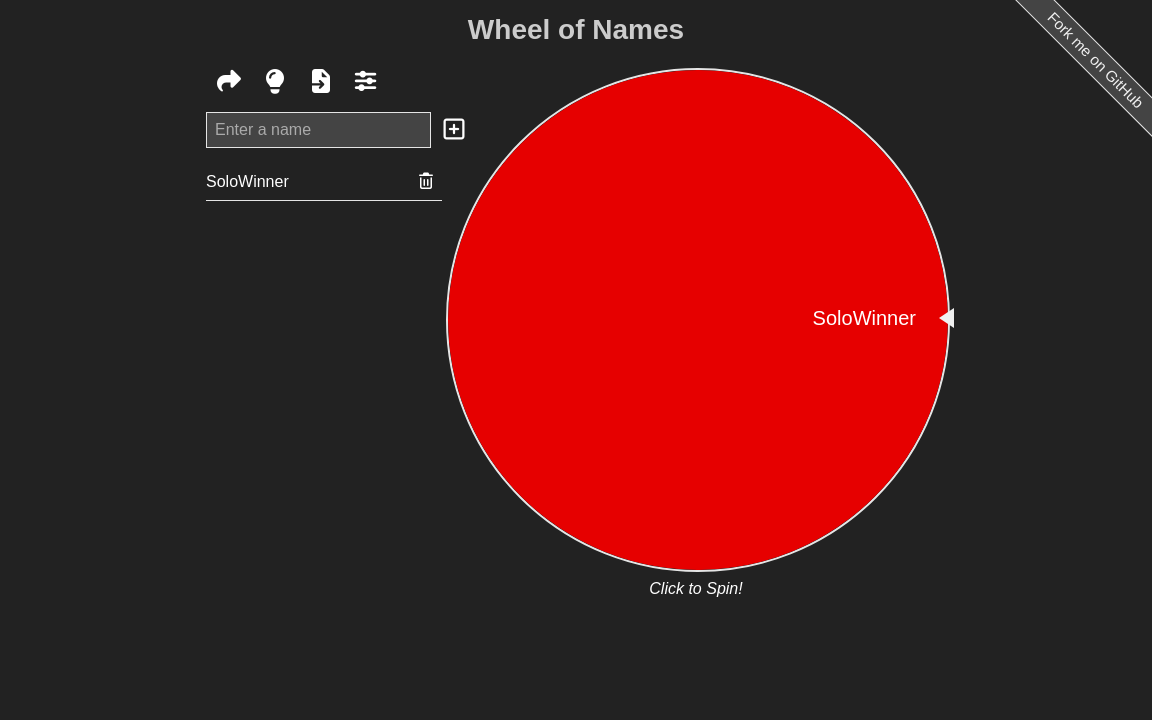
App Component › handles spin flow, reveals winner, and disables winner on dismissal
Expected: the text "Next up is..." is not shown
Click wheel to spin
Click the element with test id "wheel-container": point(466, 88) left=446, top=68, right=946, bottom=568
Wait 1500 ms
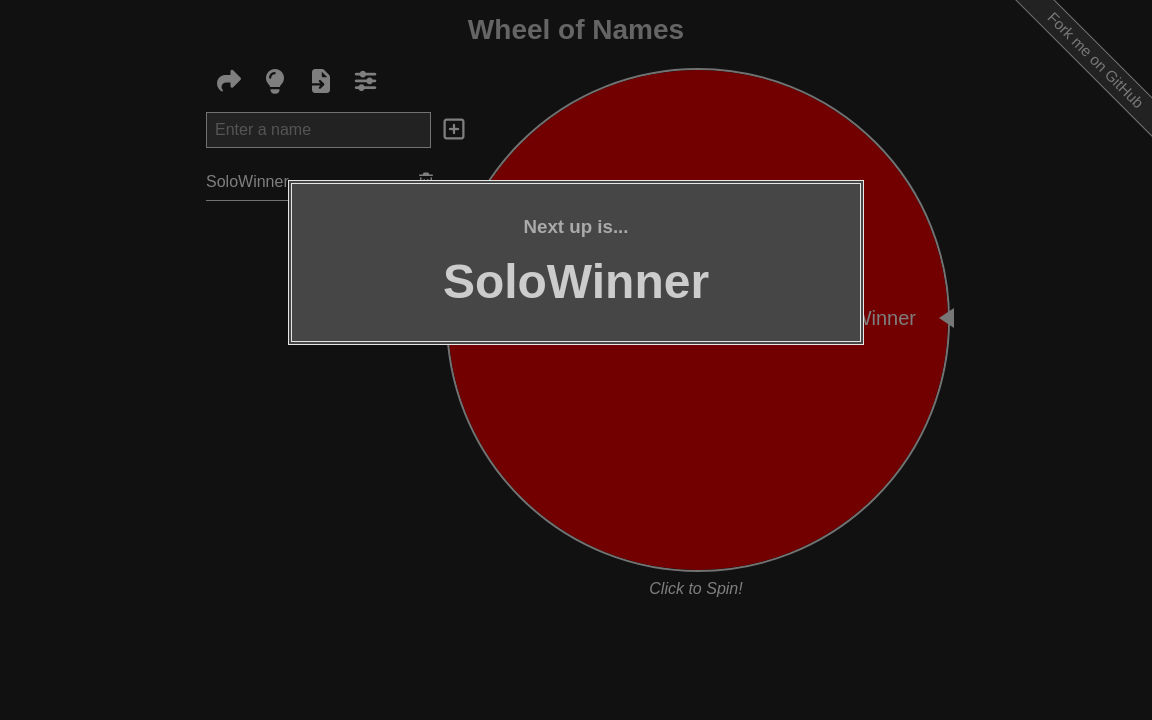
Result: the heading "Next up is..." is shown at left=524, top=216, right=628, bottom=237
Result: the heading "SoloWinner" is shown at left=443, top=255, right=709, bottom=308
Result: the element showing "Next up is... SoloWinner" is shown
Click the element showing "Next up is... SoloWinner": point(576, 360) left=0, top=0, right=1151, bottom=719
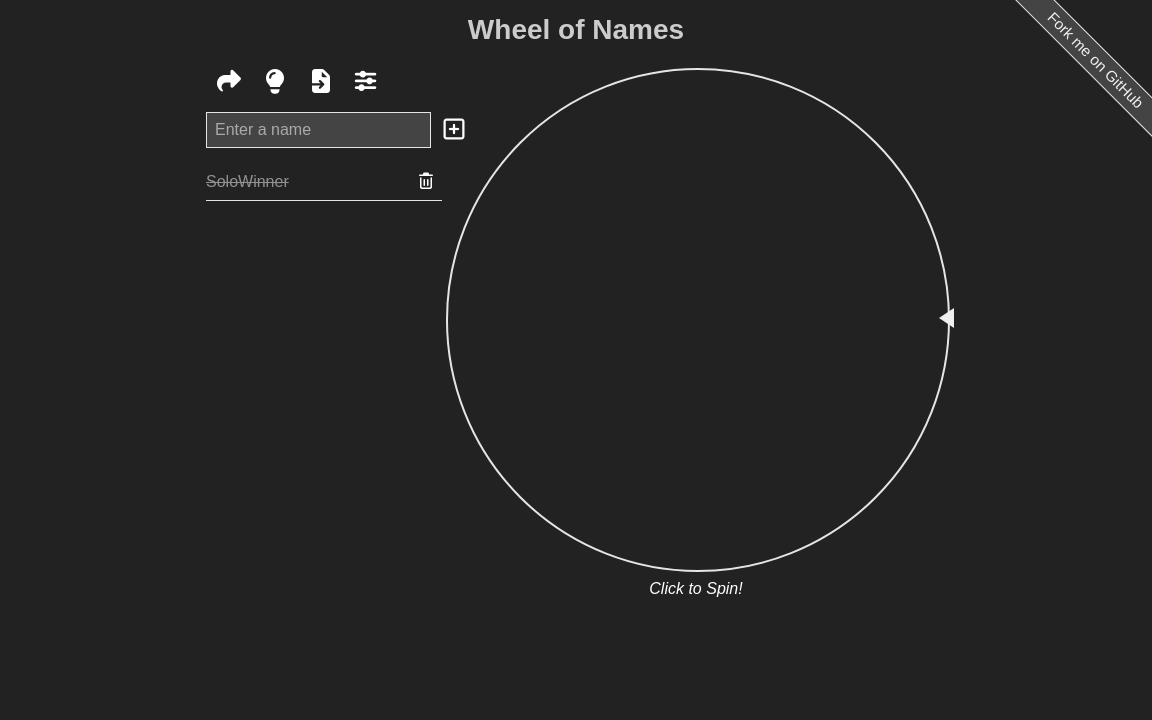
Result: the heading "Next up is..." is gone
